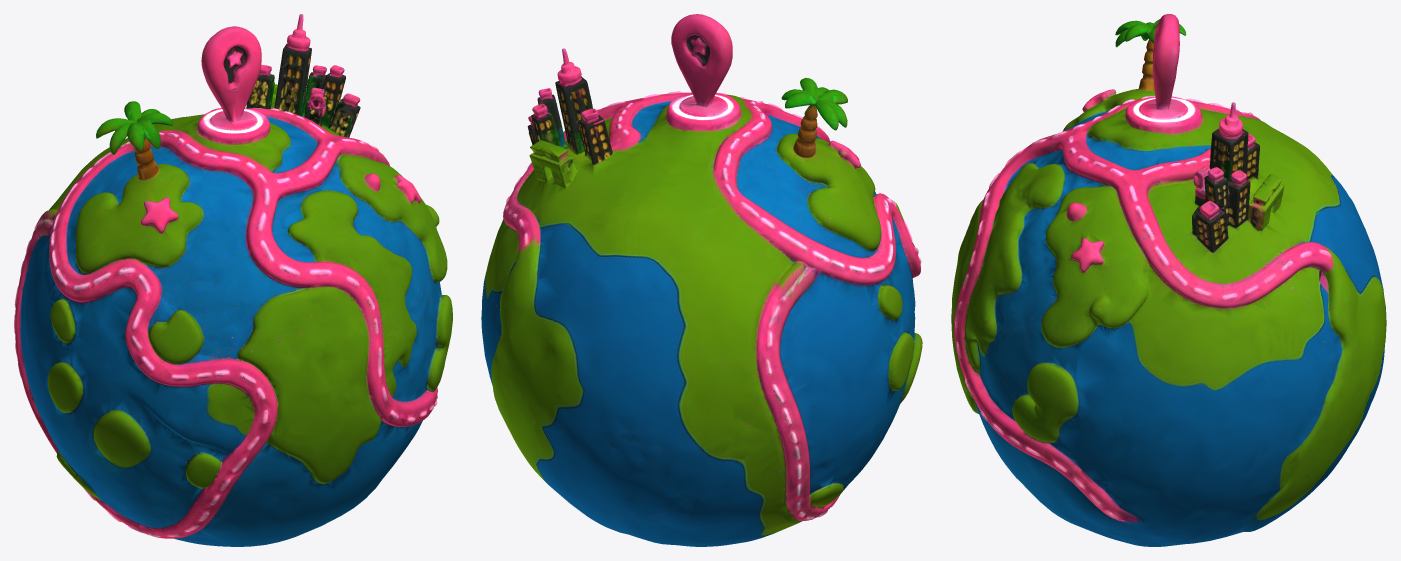
File: poplur-globe-lite.glb
The picture shows the model from 3 angles, left to right: view 1: azimuth 30°, elevation 25°; view 2: azimuth 150°, elevation 25°; view 3: azimuth 270°, elevation 25°; orthographic projection. The views are drawn at different scales.
Bounding box in the file's own units: 1.48 × 1.9 × 1.46.
Materials: 1 (1 with a texture image).
